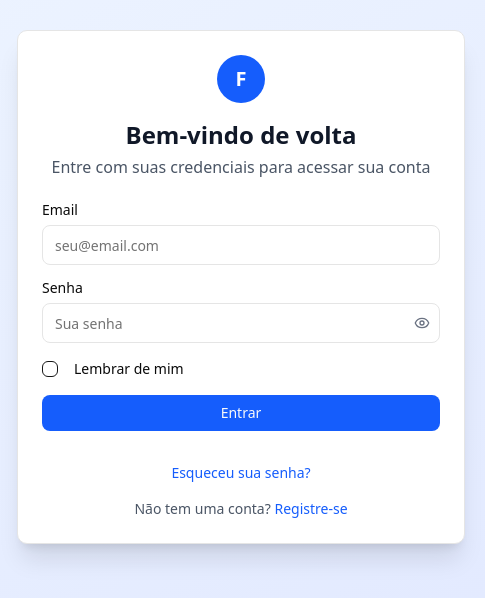
Test: Login › deve validar senha obrigatória
Type "test@example.com" into the field with placeholder "seu@email.com" at (241,245), box top-left (42, 225), bottom-right (440, 265)
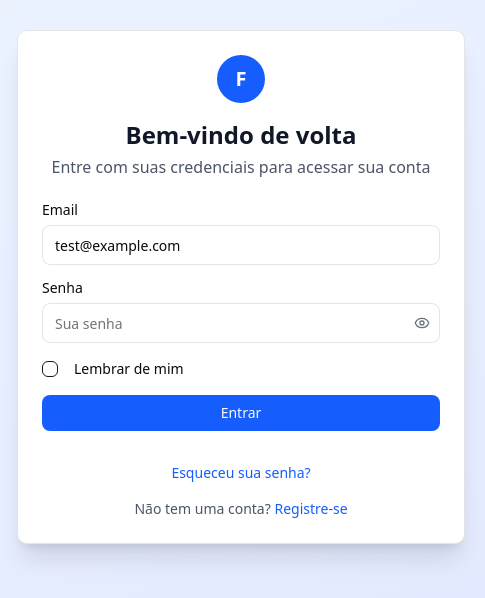
Click the button "Entrar" at (241,413), box top-left (42, 395), bottom-right (440, 431)
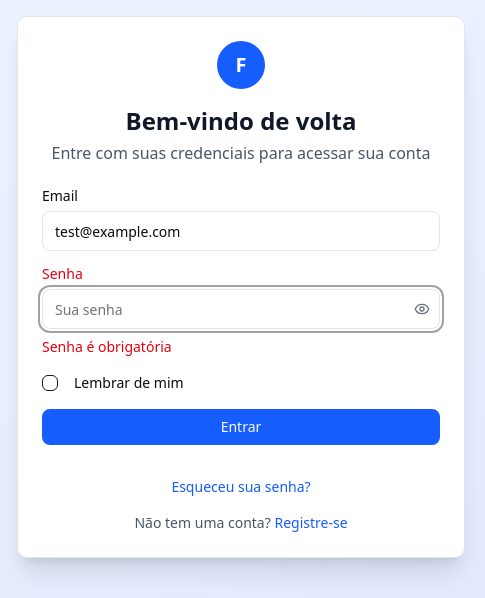
Check: the text "Senha é obrigatória" is shown, box top-left (42, 337), bottom-right (172, 356)
